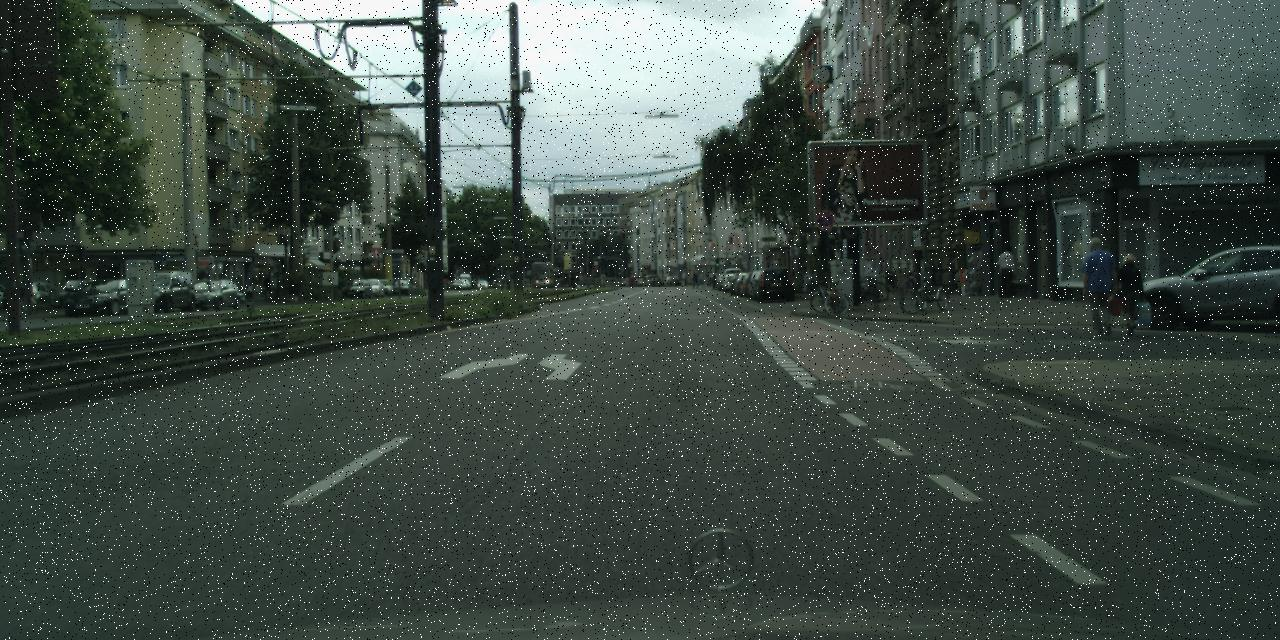ped: (1079, 237, 1119, 334), (1114, 254, 1145, 330), (997, 244, 1017, 296), (263, 273, 274, 299), (692, 270, 698, 288)
